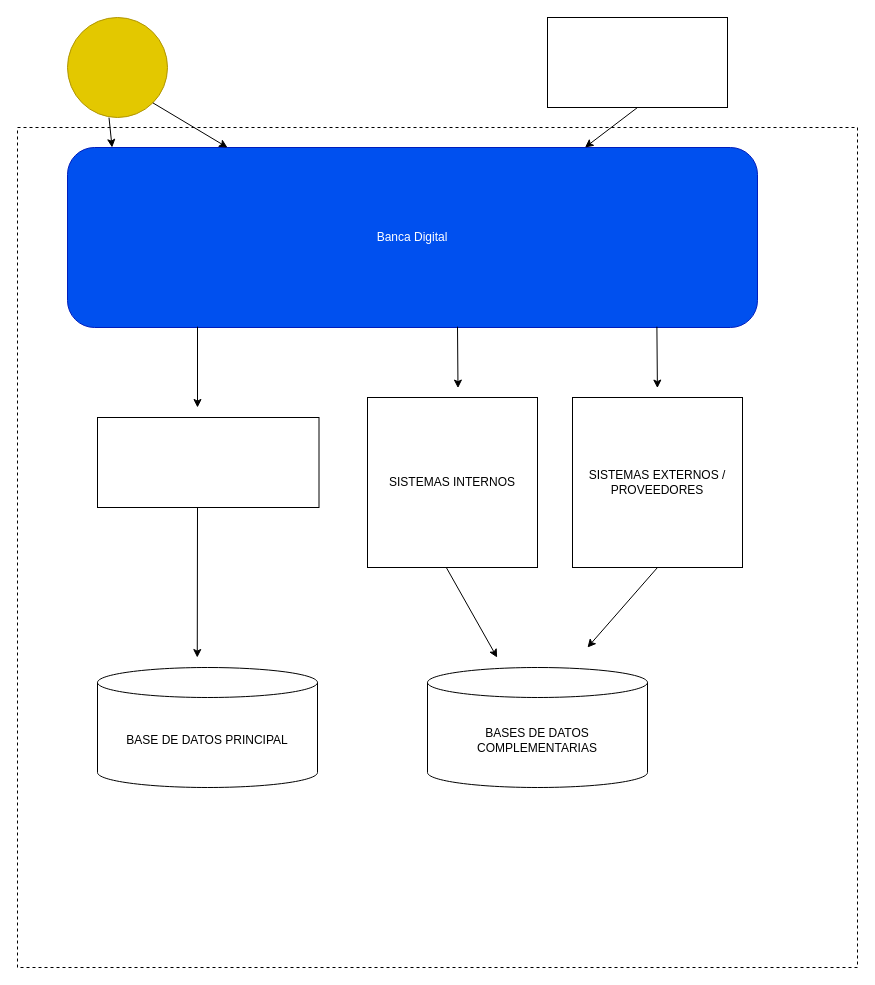
Some shapes in this 875 by 985 pixel diagram are drawn without their labels. Here are the shapes that lost their labels. From the top down, the centre of each, then its label:
the point at 117,67: Usuario/Cliente Final
the point at 637,62: Entidades de regulación o supervisión
the point at 207,462: PALTAFORMA CORE
